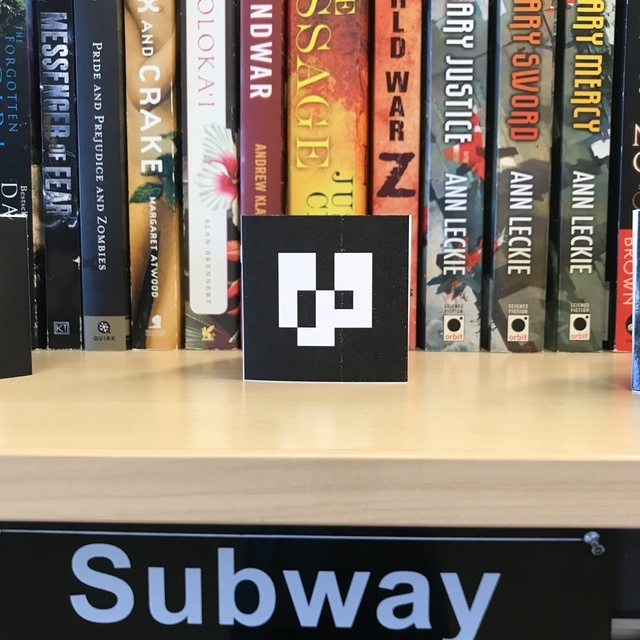ARTag: (240, 214, 408, 383)
